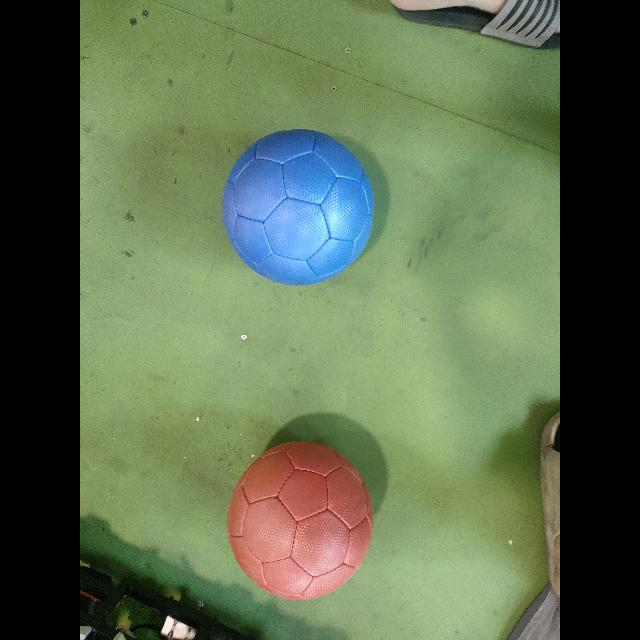B: (222, 130, 374, 285)
R: (228, 441, 374, 600)
